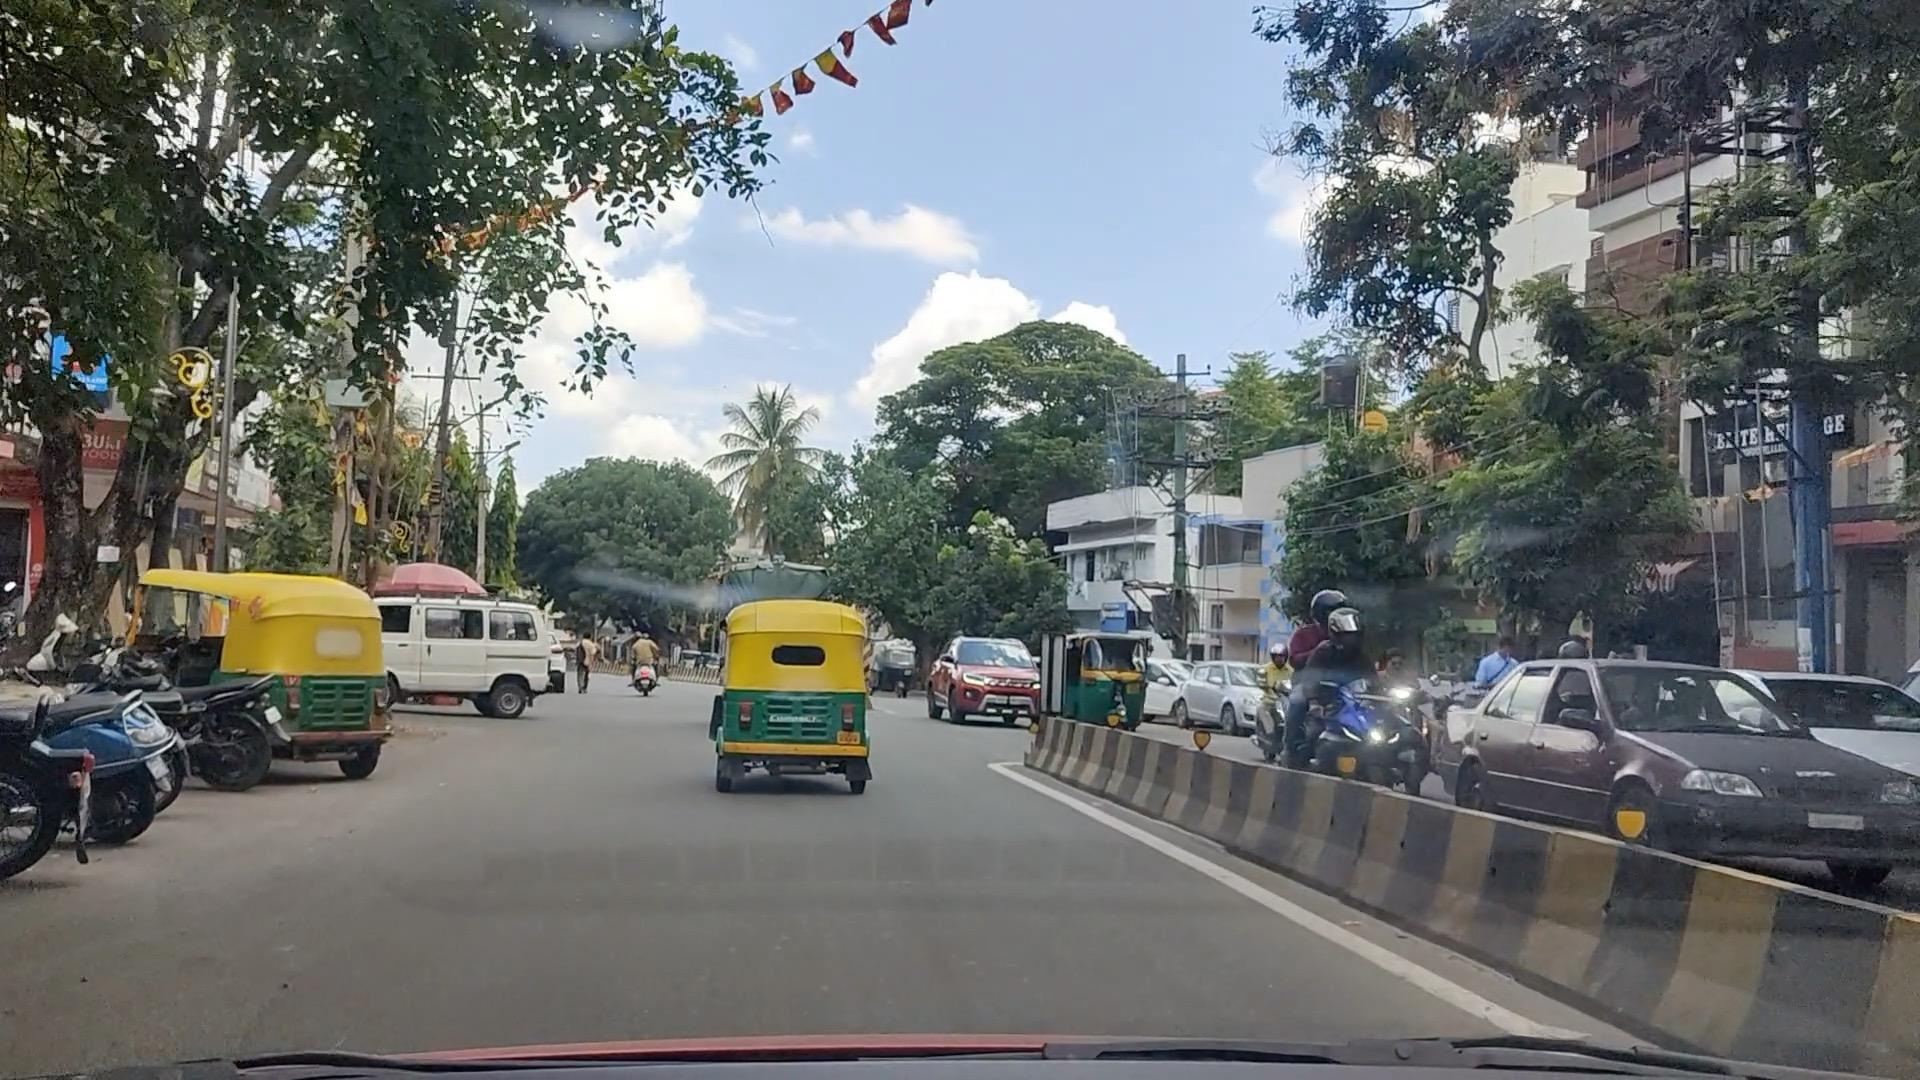LMV: (164, 570, 392, 781), (724, 596, 864, 779), (375, 600, 556, 709)
